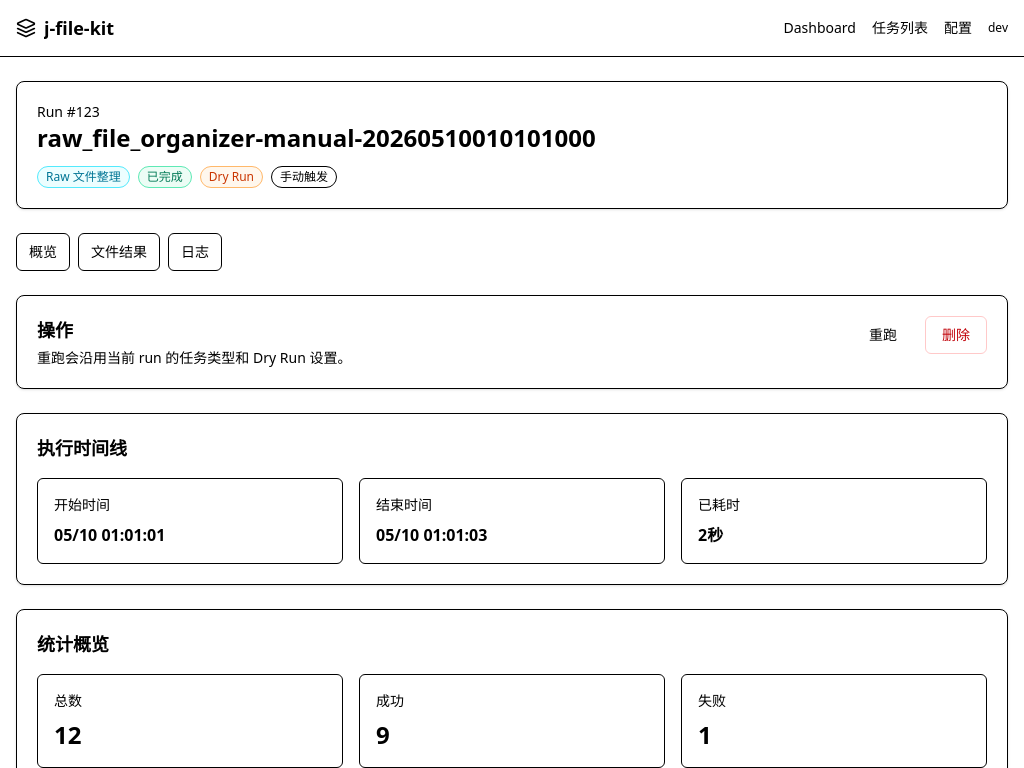
Test: Task detail page › renders task detail logs
expect the heading "raw_file_organizer-manual-20260510010101000" is shown: met, box [37,121,596,154]
Click the tab "日志" at (195, 252), box [168,233,222,271]
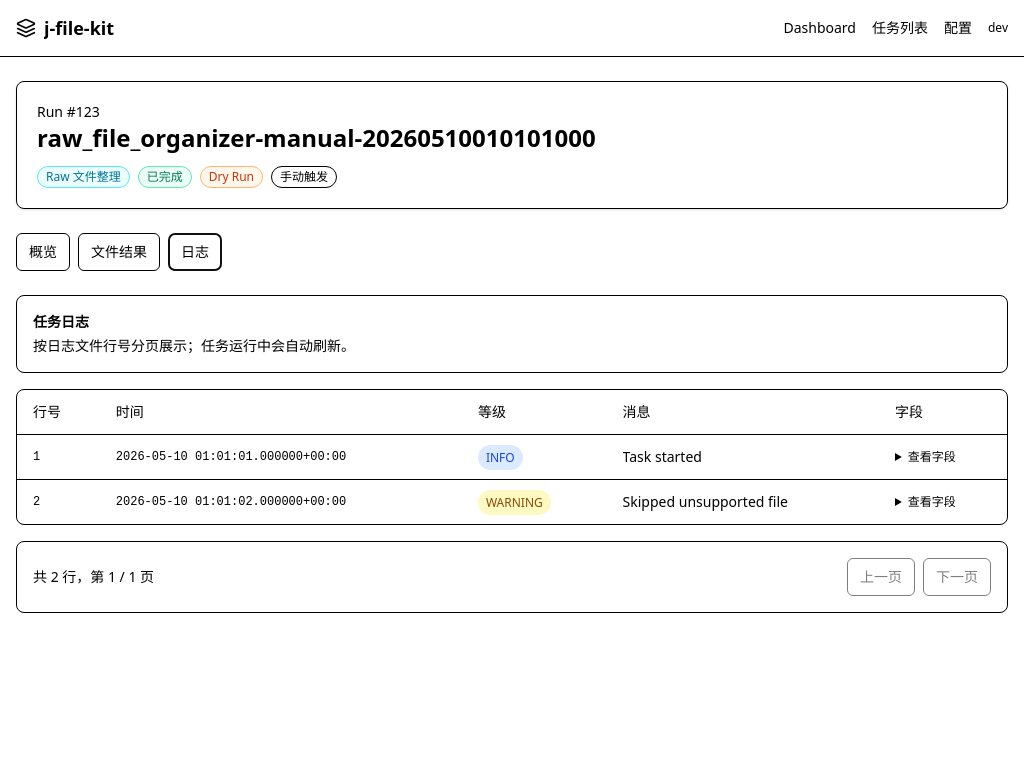
expect the text "Task started" is shown: met, box [623,447,702,466]
expect the text "Skipped unsupported file" is shown: met, box [623,492,788,511]
expect the text "WARNING" is shown: met, box [478,490,551,515]
